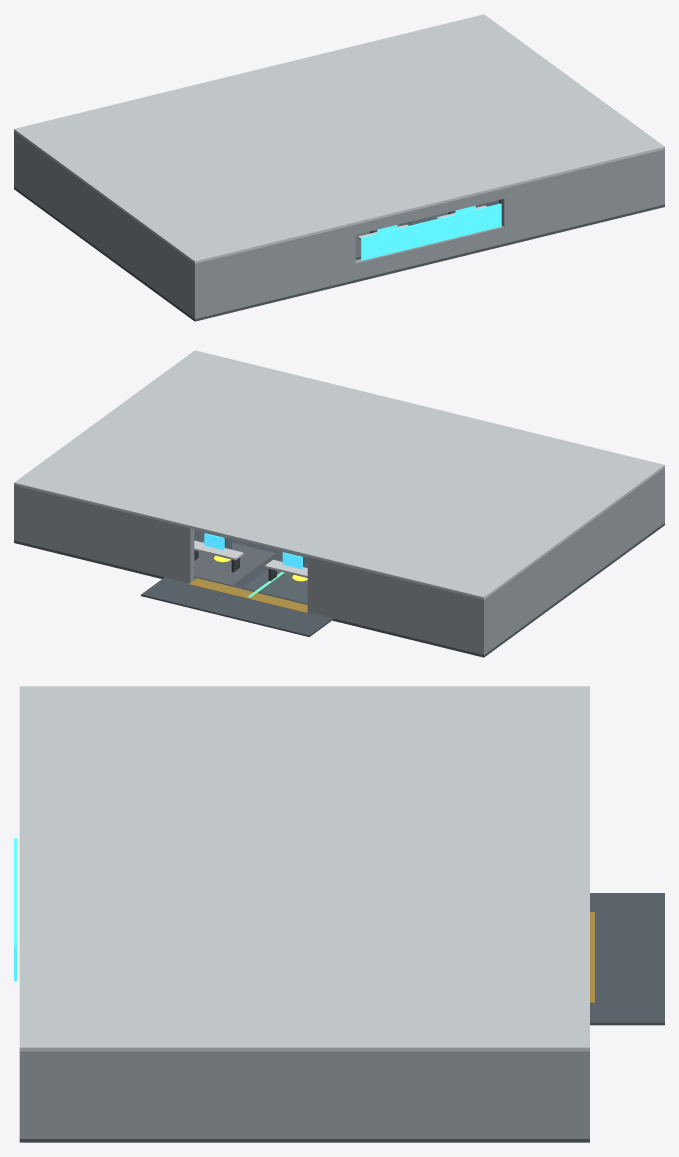
Rendered from fantasy3d-workshop-high.glb.
The picture shows the model from 3 angles, top to bottom: view 1: azimuth 30°, elevation 25°; view 2: azimuth 150°, elevation 25°; view 3: azimuth 270°, elevation 25°; orthographic projection. The views are drawn at different scales.
Parts seen in each view (by area): view 1: Ceiling_Substrate, NorthWall_Substrate, WestWall_Substrate, WindowBacking, Floor_Substrate; view 2: Ceiling_Substrate, SouthWall_Substrate, WestWall_Substrate, ExteriorApron, Floor_Substrate, Zone_inspector, Zone_production, EntryThreshold; view 3: Ceiling_Substrate, EastWall_Substrate, ExteriorApron, Floor_Substrate.
Part boxes in pixels (x1,y1,x2,y2): Ceiling_Substrate: (14,14,664,263); NorthWall_Substrate: (191,149,664,318); WestWall_Substrate: (14,131,201,318); WindowBacking: (361,203,501,260); Floor_Substrate: (14,187,664,321); Ceiling_Substrate: (14,350,664,599); SouthWall_Substrate: (21,487,487,654); WestWall_Substrate: (477,470,660,654); ExteriorApron: (141,577,333,637); Floor_Substrate: (14,523,664,657); Zone_inspector: (194,540,275,585); Zone_production: (242,559,307,604); EntryThreshold: (188,578,307,612); Ceiling_Substrate: (19,686,589,1051); EastWall_Substrate: (19,1051,589,1138); ExteriorApron: (590,893,664,1025); Floor_Substrate: (19,1139,589,1142).
Size of the model in its own units: 24 by 2.94 by 18.26.
